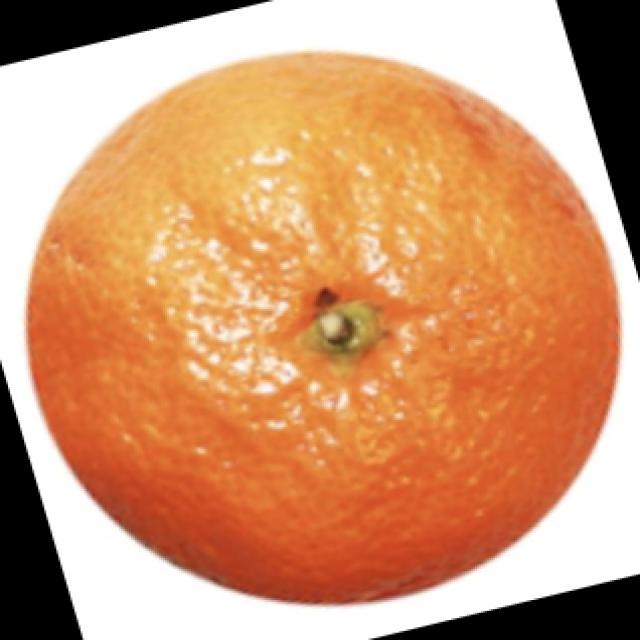Orange: (24, 48, 622, 605)
